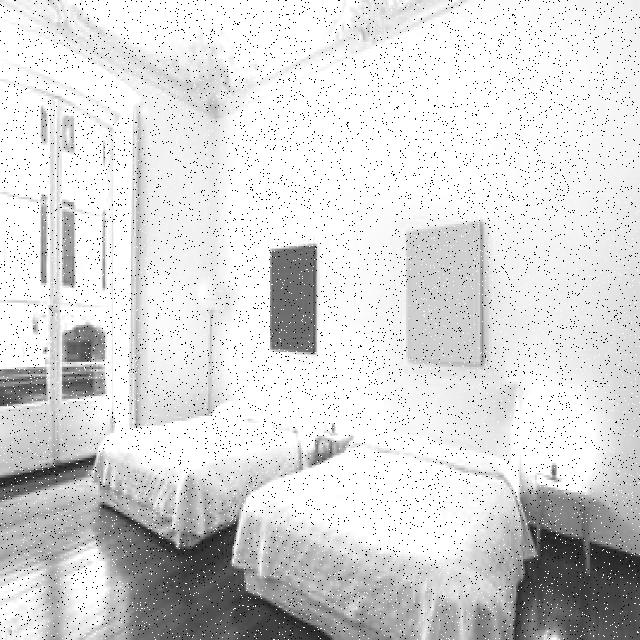bed: (251, 380, 545, 640), (102, 359, 311, 530)
